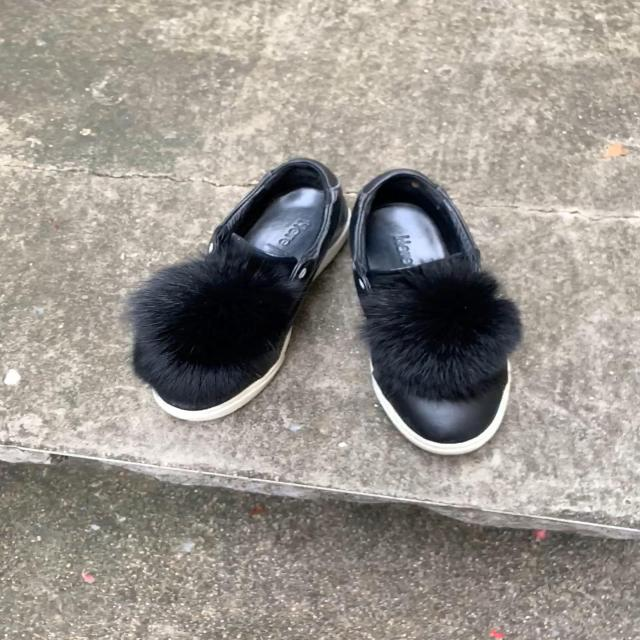shoe: (130, 158, 347, 425), (351, 170, 524, 451)
